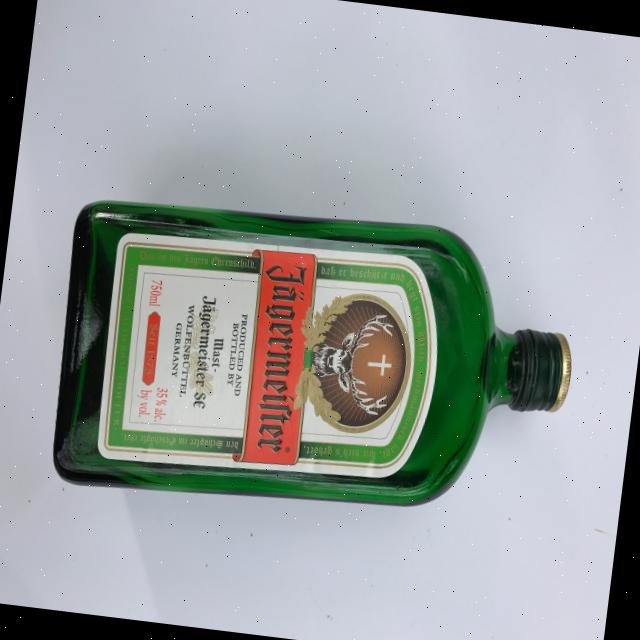glass: (12, 154, 615, 562)
